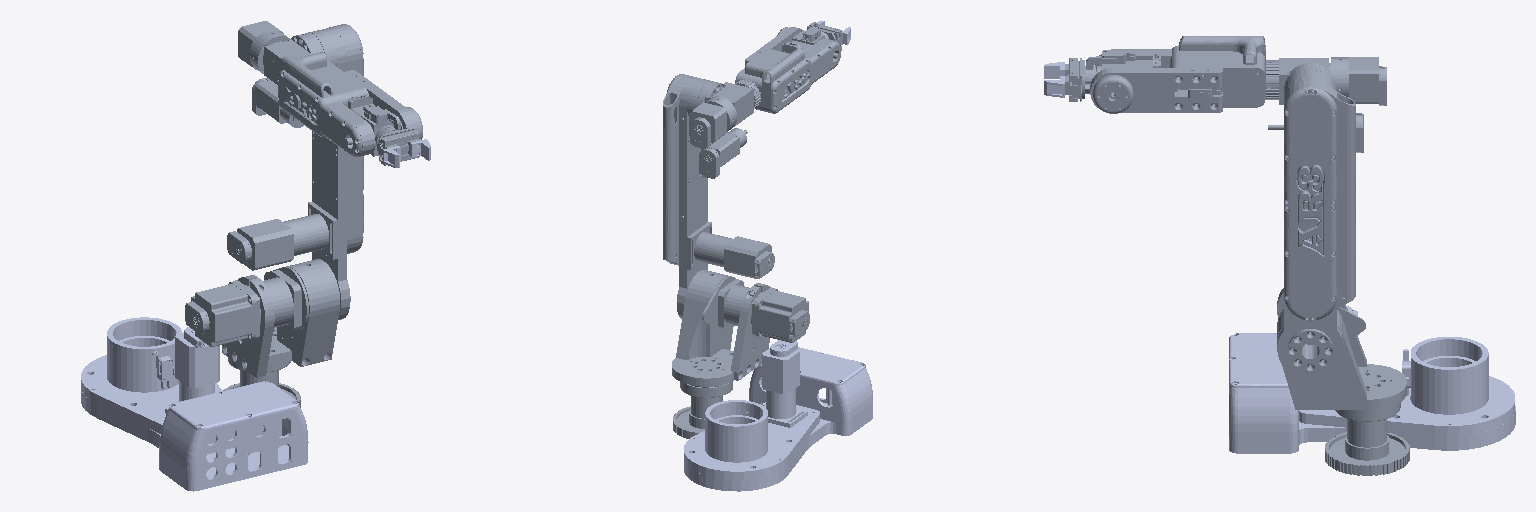
The robot description file, URDF, robot "AR3 robot URDF":
<?xml version="1.0" encoding="utf-8"?>
<!-- This URDF was automatically created by SolidWorks to URDF Exporter! Originally created by [author] ([email redacted]) 
     Commit Version: 1.5.1-0-g916b5db  Build Version: 1.5.7152.31018
     For more information, please see http://wiki.ros.org/sw_urdf_exporter -->
<robot
  name="AR3 robot URDF">
  <link
    name="base_link">
    <inertial>
      <origin
        xyz="-1.1217E-05 0.040225 0.091723"
        rpy="0 0 0" />
      <mass
        value="0.95803" />
      <inertia
        ixx="0.0021884"
        ixy="-3.8621E-07"
        ixz="-9.0018E-07"
        iyy="0.0035398"
        iyz="-5.63E-05"
        izz="0.0017221" />
    </inertial>
    <visual>
      <origin
        xyz="0 0 0"
        rpy="0 0 0" />
      <geometry>
        <mesh
          filename="package://AR3 robot URDF/meshes/base_link.STL" />
      </geometry>
      <material
        name="">
        <color
          rgba="0.79216 0.81961 0.93333 1" />
      </material>
    </visual>
    <collision>
      <origin
        xyz="0 0 0"
        rpy="0 0 0" />
      <geometry>
        <mesh
          filename="package://AR3 robot URDF/meshes/base_link.STL" />
      </geometry>
    </collision>
  </link>
  <link
    name="link1">
    <inertial>
      <origin
        xyz="-0.18637 0.087903 0.034666"
        rpy="0 0 0" />
      <mass
        value="0.93653" />
      <inertia
        ixx="0.0006149"
        ixy="-3.5712E-05"
        ixz="2.2503E-06"
        iyy="0.00061688"
        iyz="4.2768E-06"
        izz="0.00082168" />
    </inertial>
    <visual>
      <origin
        xyz="0 0 0"
        rpy="0 0 0" />
      <geometry>
        <mesh
          filename="package://AR3 robot URDF/meshes/link1.STL" />
      </geometry>
      <material
        name="">
        <color
          rgba="0.66667 0.69804 0.76863 1" />
      </material>
    </visual>
    <collision>
      <origin
        xyz="0 0 0"
        rpy="0 0 0" />
      <geometry>
        <mesh
          filename="package://AR3 robot URDF/meshes/link1.STL" />
      </geometry>
    </collision>
  </link>
  <joint
    name="joint1"
    type="revolute">
    <origin
      xyz="0.05115 -0.046305 0.31137"
      rpy="3.1416 -1.5708 0" />
    <parent
      link="base_link" />
    <child
      link="link1" />
    <axis
      xyz="0 0 0" />
    <limit
      lower="0"
      upper="0"
      effort="0"
      velocity="0" />
  </joint>
  <link
    name="link2">
    <inertial>
      <origin
        xyz="0.00177299698041906 -0.129945945611691 0.00570035374423986"
        rpy="0 0 0" />
      <mass
        value="0.637803299824227" />
      <inertia
        ixx="0.00266740425939751"
        ixy="5.87124646320831E-06"
        ixz="9.8351235270744E-08"
        iyy="0.000265543881550195"
        iyz="-1.62637507136454E-07"
        izz="0.00283295724929194" />
    </inertial>
    <visual>
      <origin
        xyz="0 0 0"
        rpy="0 0 0" />
      <geometry>
        <mesh
          filename="package://AR3 robot URDF/meshes/link2.STL" />
      </geometry>
      <material
        name="">
        <color
          rgba="0.666666666666667 0.698039215686274 0.768627450980392 1" />
      </material>
    </visual>
    <collision>
      <origin
        xyz="0 0 0"
        rpy="0 0 0" />
      <geometry>
        <mesh
          filename="package://AR3 robot URDF/meshes/link2.STL" />
      </geometry>
    </collision>
  </link>
  <joint
    name="joint2"
    type="revolute">
    <origin
      xyz="-0.14159 0.11045 0.10286"
      rpy="3.1416 0 -1.5708" />
    <parent
      link="link1" />
    <child
      link="link2" />
    <axis
      xyz="0 0 0" />
    <limit
      lower="0"
      upper="0"
      effort="0"
      velocity="0" />
  </joint>
  <link
    name="link3">
    <inertial>
      <origin
        xyz="-0.0180324427735189 -0.014051268471184 0.0265572844874025"
        rpy="0 0 0" />
      <mass
        value="0.299250313903521" />
      <inertia
        ixx="8.10130319878466E-05"
        ixy="-2.02311253343883E-08"
        ixz="-3.57470805813255E-07"
        iyy="0.000237917881085187"
        iyz="-1.99497014543737E-08"
        izz="0.000248001671701565" />
    </inertial>
    <visual>
      <origin
        xyz="0 0 0"
        rpy="0 0 0" />
      <geometry>
        <mesh
          filename="package://AR3 robot URDF/meshes/link3.STL" />
      </geometry>
      <material
        name="">
        <color
          rgba="0.666666666666667 0.698039215686274 0.768627450980392 1" />
      </material>
    </visual>
    <collision>
      <origin
        xyz="0 0 0"
        rpy="0 0 0" />
      <geometry>
        <mesh
          filename="package://AR3 robot URDF/meshes/link3.STL" />
      </geometry>
    </collision>
  </link>
  <joint
    name="joint3"
    type="revolute">
    <origin
      xyz="0 -0.305 0.015"
      rpy="0 0 3.1416" />
    <parent
      link="link2" />
    <child
      link="link3" />
    <axis
      xyz="0 0 -1" />
    <limit
      lower="0"
      upper="0"
      effort="0"
      velocity="0" />
  </joint>
  <link
    name="link4">
    <inertial>
      <origin
        xyz="-0.00098547 0.0012508 0.087852"
        rpy="0 0 0" />
      <mass
        value="0.3131" />
      <inertia
        ixx="0.00060112"
        ixy="-1.9175E-06"
        ixz="4.7472E-06"
        iyy="0.00054111"
        iyz="1.484E-05"
        izz="0.00010306" />
    </inertial>
    <visual>
      <origin
        xyz="0 0 0"
        rpy="0 0 0" />
      <geometry>
        <mesh
          filename="package://AR3 robot URDF/meshes/link4.STL" />
      </geometry>
      <material
        name="">
        <color
          rgba="0.66667 0.69804 0.76863 1" />
      </material>
    </visual>
    <collision>
      <origin
        xyz="0 0 0"
        rpy="0 0 0" />
      <geometry>
        <mesh
          filename="package://AR3 robot URDF/meshes/link4.STL" />
      </geometry>
    </collision>
  </link>
  <joint
    name="joint4"
    type="continuous">
    <origin
      xyz="0.035639 0 0.0367"
      rpy="0 1.5708 0" />
    <parent
      link="link3" />
    <child
      link="link4" />
    <axis
      xyz="0 0 1" />
  </joint>
  <link
    name="link5">
    <inertial>
      <origin
        xyz="0.0204923475102851 0.029076045748002 0.025508821339453"
        rpy="0 0 0" />
      <mass
        value="0.110223683345124" />
      <inertia
        ixx="2.06412375881851E-05"
        ixy="-7.74767121989349E-09"
        ixz="-3.68458609238178E-08"
        iyy="1.78830745854807E-05"
        iyz="-6.13372046050288E-09"
        izz="2.07561493534032E-05" />
    </inertial>
    <visual>
      <origin
        xyz="0 0 0"
        rpy="0 0 0" />
      <geometry>
        <mesh
          filename="package://AR3 robot URDF/meshes/link5.STL" />
      </geometry>
      <material
        name="">
        <color
          rgba="0.666666666666667 0.698039215686274 0.768627450980392 1" />
      </material>
    </visual>
    <collision>
      <origin
        xyz="0 0 0"
        rpy="0 0 0" />
      <geometry>
        <mesh
          filename="package://AR3 robot URDF/meshes/link5.STL" />
      </geometry>
    </collision>
  </link>
  <joint
    name="joint5"
    type="revolute">
    <origin
      xyz="-0.0188 -0.027618 0.14959"
      rpy="0 0 0" />
    <parent
      link="link4" />
    <child
      link="link5" />
    <axis
      xyz="-1 0 0" />
    <limit
      lower="0"
      upper="0"
      effort="0"
      velocity="0" />
  </joint>
  <link
    name="link6">
    <inertial>
      <origin
        xyz="0.000113184158456061 0.00048340110390005 0.0178526795143014"
        rpy="0 0 0" />
      <mass
        value="0.0354906853667053" />
      <inertia
        ixx="3.22959526772625E-06"
        ixy="-1.76379819794478E-08"
        ixz="-1.30397340878784E-09"
        iyy="5.39011153689331E-06"
        iyz="1.2059112569367E-08"
        izz="7.36241184720763E-06" />
    </inertial>
    <visual>
      <origin
        xyz="0 0 0"
        rpy="0 0 0" />
      <geometry>
        <mesh
          filename="package://AR3 robot URDF/meshes/link6.STL" />
      </geometry>
      <material
        name="">
        <color
          rgba="0.666666666666667 0.698039215686274 0.768627450980392 1" />
      </material>
    </visual>
    <collision>
      <origin
        xyz="0 0 0"
        rpy="0 0 0" />
      <geometry>
        <mesh
          filename="package://AR3 robot URDF/meshes/link6.STL" />
      </geometry>
    </collision>
  </link>
  <joint
    name="joint6"
    type="revolute">
    <origin
      xyz="0.0178 0.027618 0.057613"
      rpy="0 0 0" />
    <parent
      link="link5" />
    <child
      link="link6" />
    <axis
      xyz="-1 0 0" />
    <limit
      lower="0"
      upper="0"
      effort="0"
      velocity="0" />
  </joint>
  <link
    name="link7">
    <inertial>
      <origin
        xyz="0.02469 -0.0085598 -0.0027659"
        rpy="0 0 0" />
      <mass
        value="0.0066772" />
      <inertia
        ixx="4.5765E-07"
        ixy="1.445E-11"
        ixz="1.6544E-22"
        iyy="4.5865E-07"
        iyz="4.632E-23"
        izz="3.4768E-07" />
    </inertial>
    <visual>
      <origin
        xyz="0 0 0"
        rpy="0 0 0" />
      <geometry>
        <mesh
          filename="package://AR3 robot URDF/meshes/link7.STL" />
      </geometry>
      <material
        name="">
        <color
          rgba="0.79216 0.81961 0.93333 1" />
      </material>
    </visual>
    <collision>
      <origin
        xyz="0 0 0"
        rpy="0 0 0" />
      <geometry>
        <mesh
          filename="package://AR3 robot URDF/meshes/link7.STL" />
      </geometry>
    </collision>
  </link>
  <joint
    name="gripper"
    type="prismatic">
    <origin
      xyz="0.02469 0.0085908 0.04008"
      rpy="3.1416 0 -3.1416" />
    <parent
      link="link6" />
    <child
      link="link7" />
    <axis
      xyz="0 0 0" />
    <limit
      lower="0"
      upper="0"
      effort="0"
      velocity="0" />
  </joint>
</robot>

--- Render facts (derived) ---
The picture shows the robot from 3 angles, left to right: view 1: azimuth 30°, elevation 25°; view 2: azimuth 150°, elevation 25°; view 3: azimuth 270°, elevation 25°; orthographic projection.
Model AR3 robot URDF with 8 links and 7 joints (5 revolute, 1 continuous, 1 prismatic), rooted at base_link, posed all joints at 0.
Visible links, largest first — view 1: base_link, link1, link2, link4, link3, link5, link6, link7; view 2: base_link, link1, link2, link4, link3, link5; view 3: link2, base_link, link4, link1, link3, link6, link5, link7.
Boxes of the visible links, bbox=[...] form: base_link: bbox=[81, 317, 308, 491]; link1: bbox=[185, 259, 339, 407]; link2: bbox=[227, 24, 363, 319]; link4: bbox=[278, 52, 422, 156]; link3: bbox=[238, 21, 337, 127]; link5: bbox=[345, 94, 403, 156]; link6: bbox=[377, 113, 420, 165]; link7: bbox=[383, 139, 430, 167]; base_link: bbox=[684, 340, 872, 491]; link1: bbox=[672, 270, 809, 438]; link2: bbox=[663, 74, 774, 318]; link4: bbox=[735, 27, 840, 113]; link3: bbox=[687, 79, 753, 178]; link5: bbox=[782, 25, 839, 58]; link2: bbox=[1277, 75, 1355, 378]; base_link: bbox=[1229, 306, 1515, 453]; link4: bbox=[1090, 36, 1278, 113]; link1: bbox=[1277, 288, 1409, 475]; link3: bbox=[1268, 57, 1386, 152]; link6: bbox=[1065, 56, 1101, 101]; link5: bbox=[1096, 50, 1160, 95]; link7: bbox=[1044, 62, 1064, 97].
Bounding box of the posed robot: 0.2753 × 0.5322 × 0.5148 m (x, y, z).
Meshes: 8 distinct files referenced, 8 mesh visuals loaded (8 binary STL).